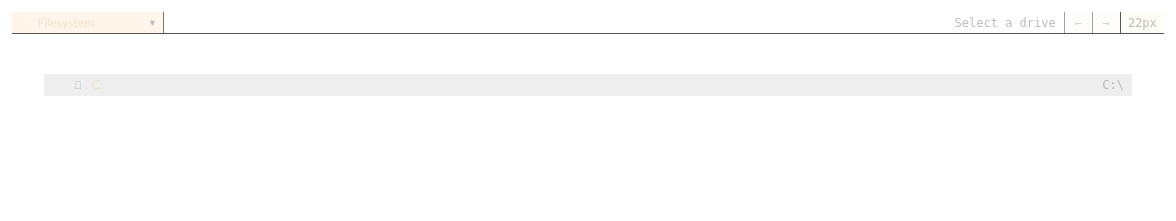
it: FilesystemPanel › navigates into a selected drive and lists entries
Double-click the button "C: C:\\" at x=78, y=85, box x1=44 y1=74 x2=1132 y2=96
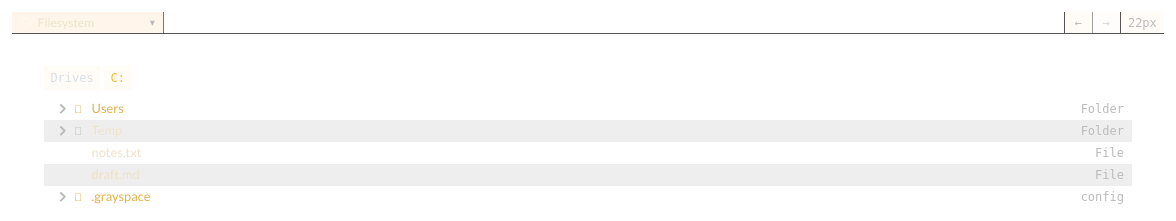
Expected: the text "Users" is shown, x1=89 y1=100 x2=124 y2=119
Expected: the text "notes.txt" is shown, x1=89 y1=144 x2=142 y2=163
